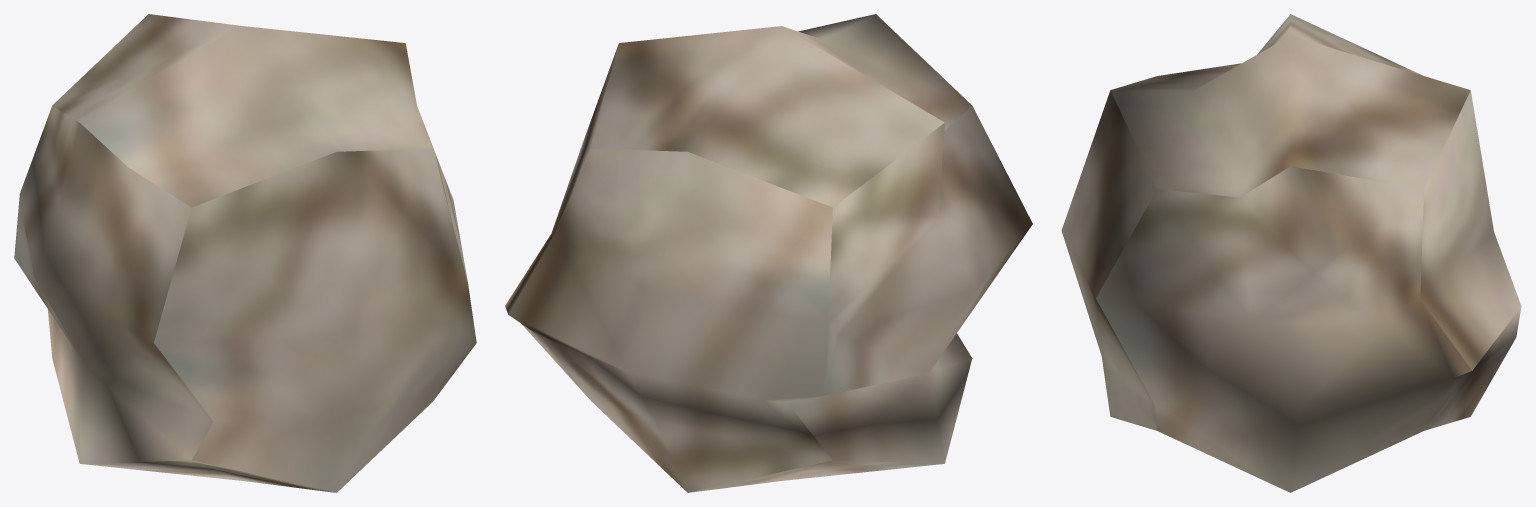
Rendered from Rock.fbx.
3 renders of one model, left to right at view 1: azimuth 30°, elevation 25°; view 2: azimuth 150°, elevation 25°; view 3: azimuth 270°, elevation 25°, orthographic. The views are drawn at different scales.
Parts seen in each view (by area): view 1: RockMesh; view 2: RockMesh; view 3: RockMesh.
Part boxes in pixels (left/top/right/bottom): RockMesh: left=14, top=14, right=476, bottom=492; RockMesh: left=505, top=14, right=1032, bottom=492; RockMesh: left=1061, top=14, right=1521, bottom=492.
Bounding box in the file's own units: 100 × 104 × 99.69.
Materials: 1 (1 with a texture image).
